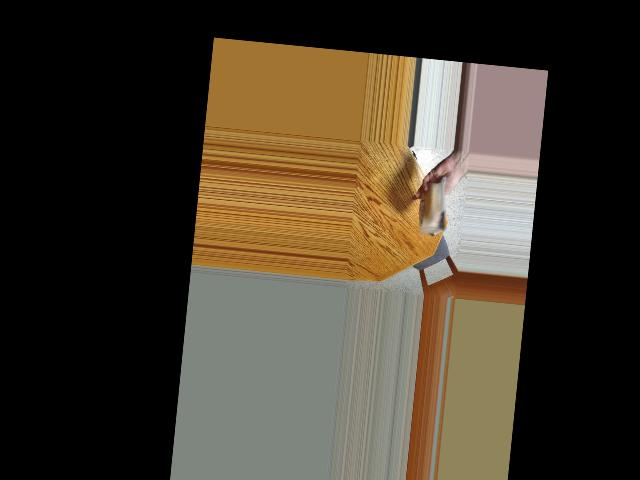cheese: (410, 179, 454, 235)
